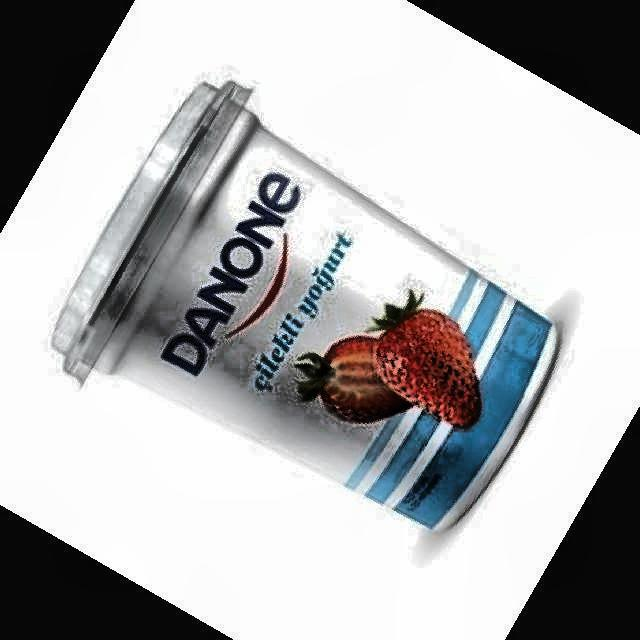plastic: (52, 82, 556, 530)
